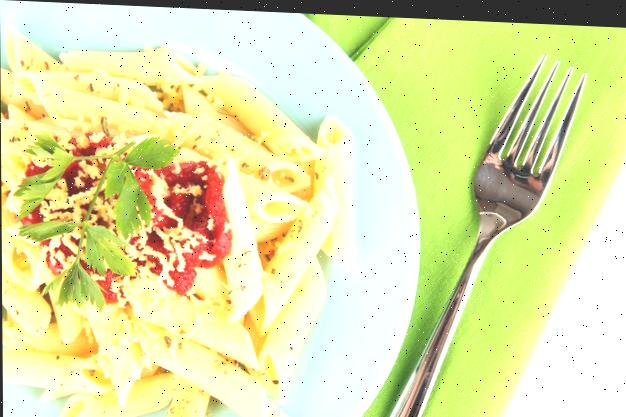pasta: (0, 28, 351, 416), (199, 75, 322, 161), (312, 117, 353, 263)
